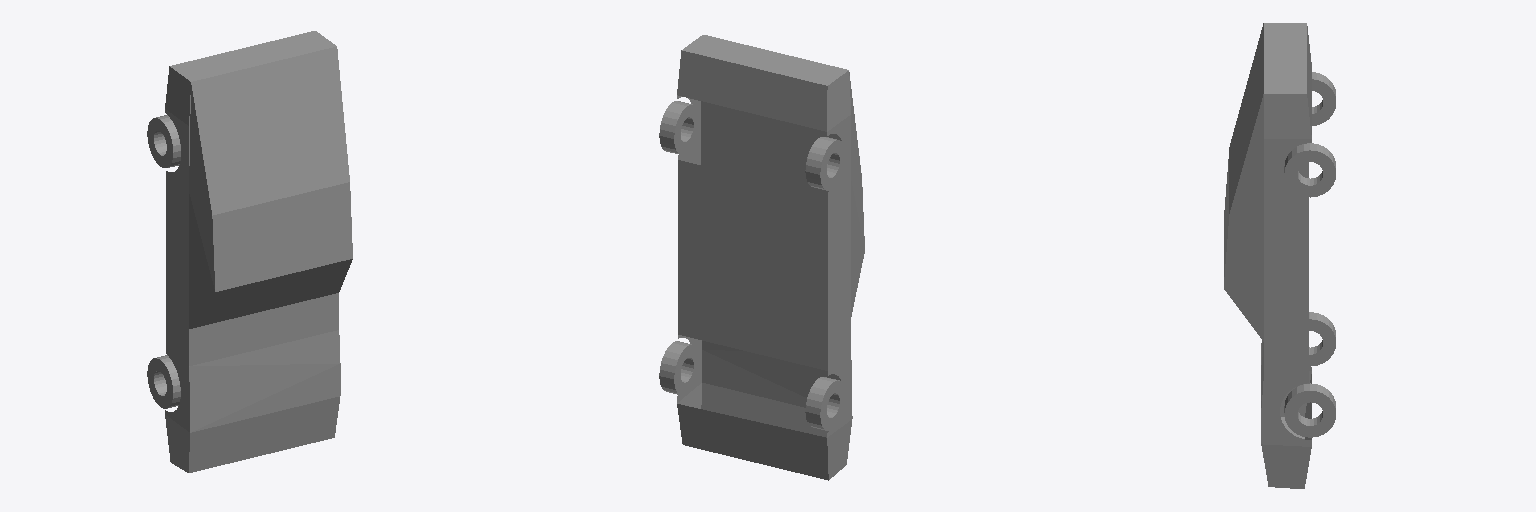
Rendered from voitureQualite2.obj.
3 views of the same model, side by side, from view 1: azimuth 30°, elevation 25°; view 2: azimuth 150°, elevation 25°; view 3: azimuth 270°, elevation 25° (orthographic).
Visible parts, largest first — view 1: Car_Cube, TireFL_Plane.003, TireBL_Plane.002; view 2: Car_Cube, TireFR_Plane.001, TireBL_Plane.002, TIreBR_Plane, TireFL_Plane.003; view 3: Car_Cube, TIreBR_Plane, TireFR_Plane.001, TireBL_Plane.002, TireFL_Plane.003.
Boxes of the visible parts, <box> form: Car_Cube: <box>165,31,352,472</box>; TireFL_Plane.003: <box>147,115,180,167</box>; TireBL_Plane.002: <box>147,355,180,408</box>; Car_Cube: <box>677,35,864,480</box>; TireFR_Plane.001: <box>659,101,699,154</box>; TireBL_Plane.002: <box>805,377,845,430</box>; TIreBR_Plane: <box>659,341,699,394</box>; TireFL_Plane.003: <box>805,137,845,190</box>; Car_Cube: <box>1224,23,1311,488</box>; TIreBR_Plane: <box>1284,383,1335,437</box>; TireFR_Plane.001: <box>1284,143,1335,197</box>; TireBL_Plane.002: <box>1309,312,1335,366</box>; TireFL_Plane.003: <box>1312,72,1335,125</box>.
Size of the model in its own units: 7.71 by 18.11 by 4.68.